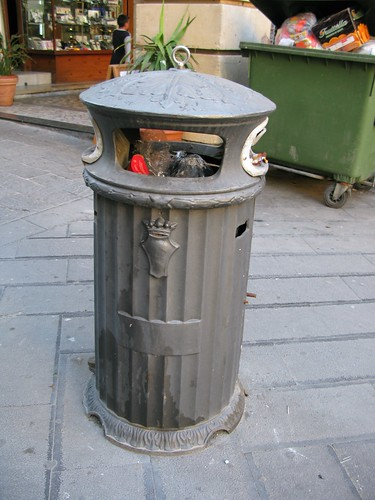trash: (259, 1, 375, 47)
trash can: (75, 71, 278, 464), (253, 1, 375, 180)
